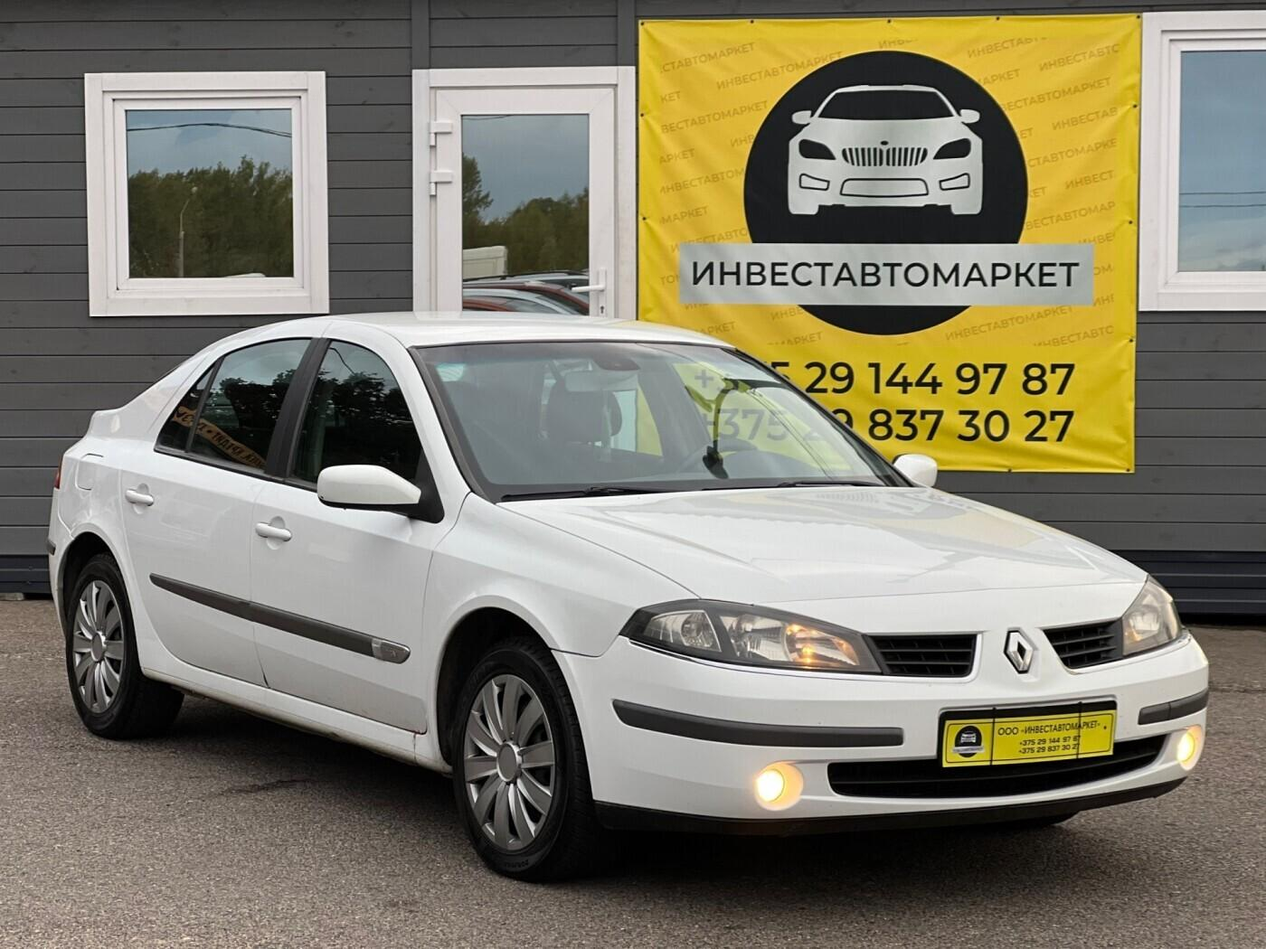Laguna_2005-2007: (45, 306, 1219, 884)
